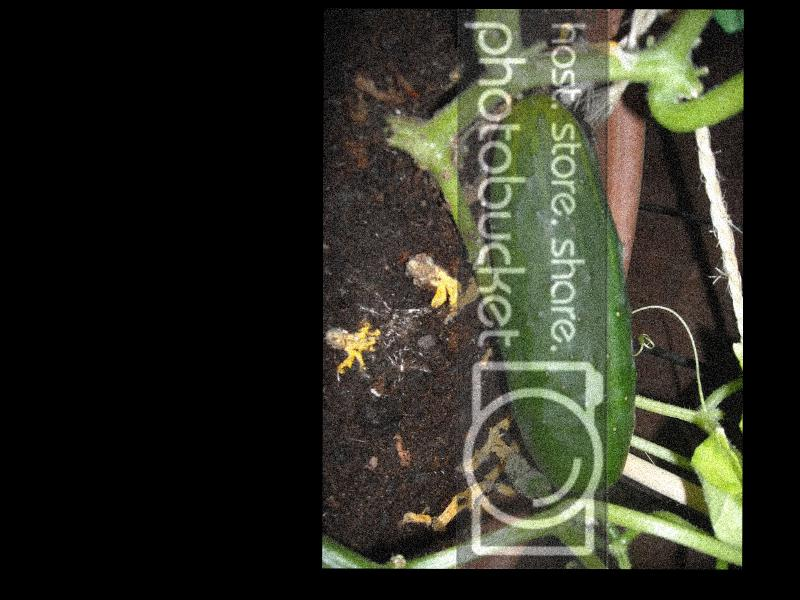Cucumber: (486, 94, 635, 494)
